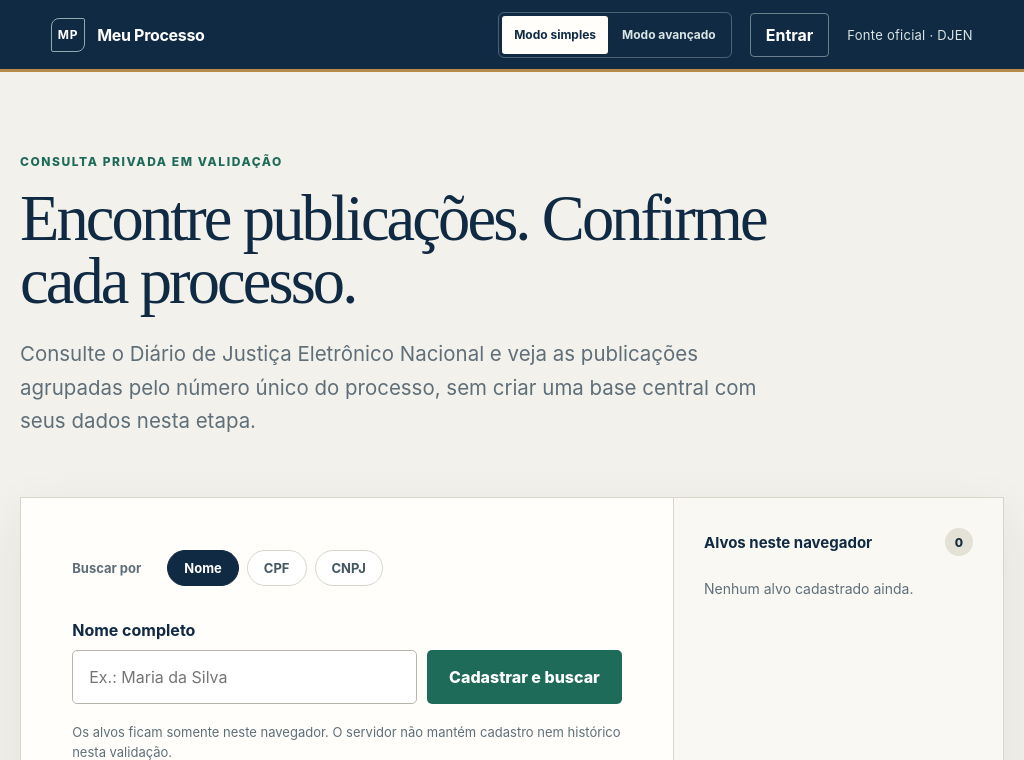
it: App › registers a name locally and renders grouped official results
Click the button "Entrar" at [790, 34], box [750, 12, 829, 56]
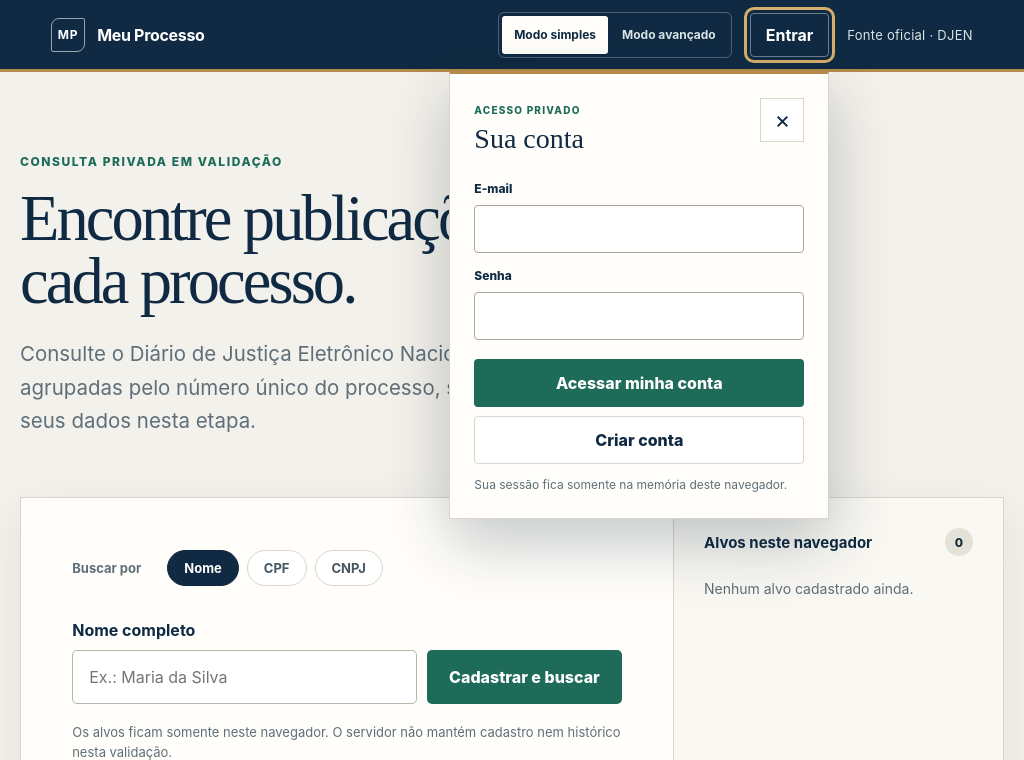
Type "pessoa@example.test" into the field labelled "E-mail" at [639, 228], box [474, 204, 804, 252]
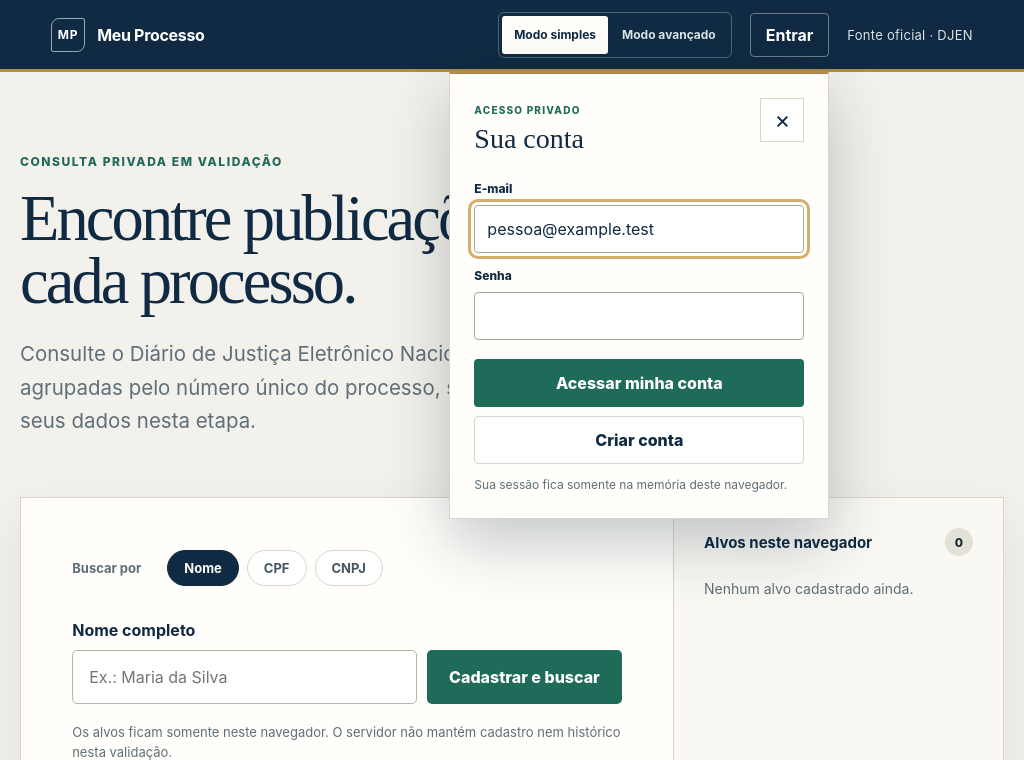
Type "uma-senha-segura" into the password field labelled "Senha" at [639, 316], box [474, 292, 804, 340]
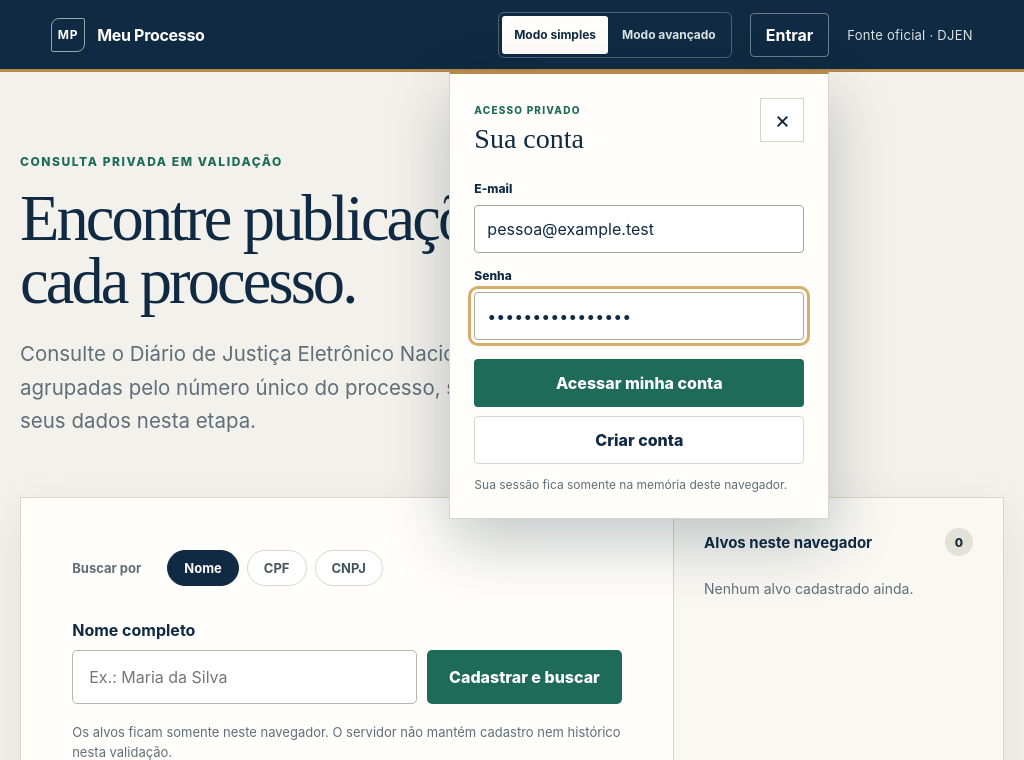
Click the button "Acessar minha conta" at [639, 382], box [474, 358, 804, 406]
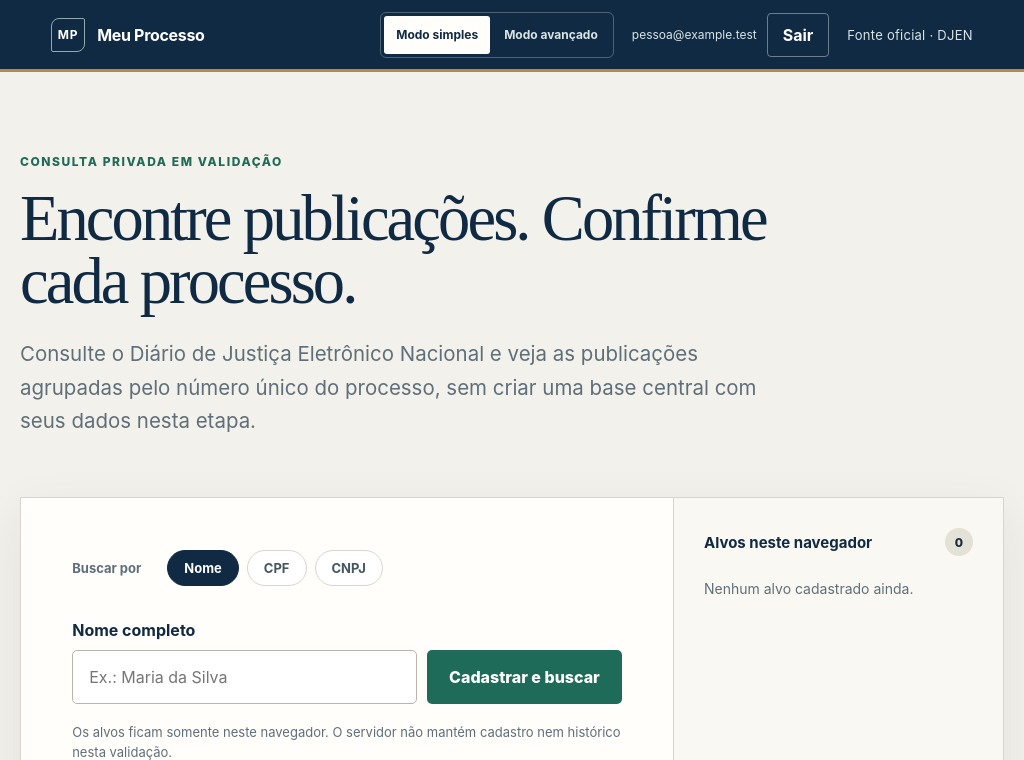
Expected: the text "pessoa@example.test" is shown, [632, 27, 757, 42]
Type "Pessoa Exemplo" into the field labelled "Nome completo" at [245, 676], box [72, 650, 417, 704]
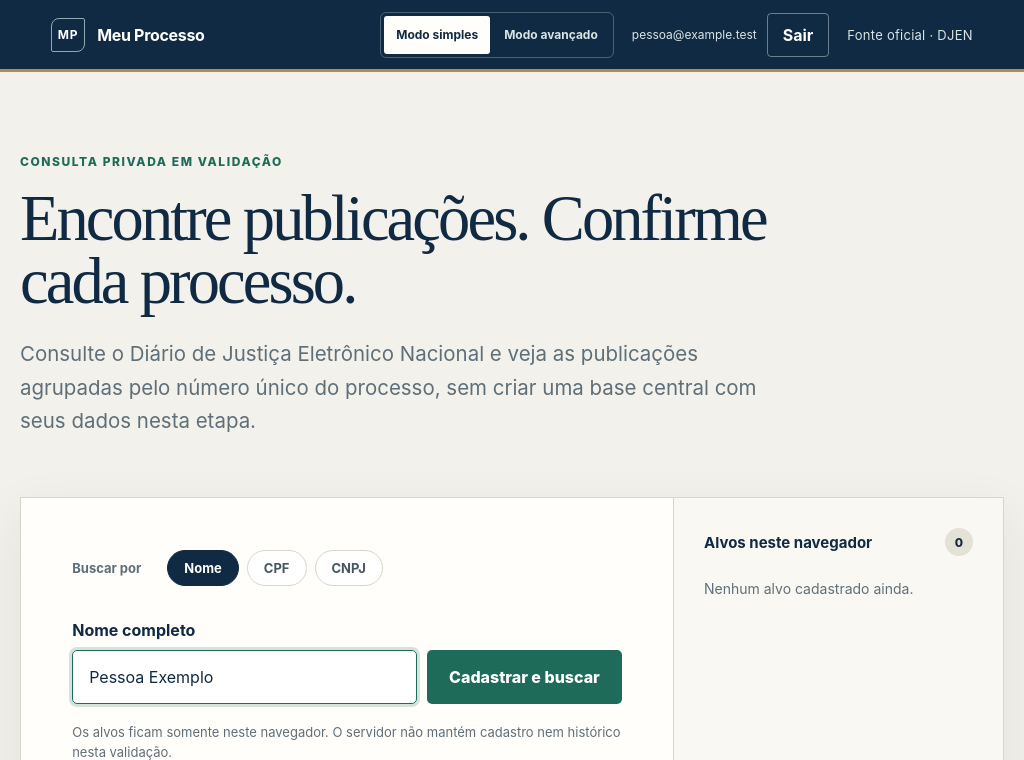
Click the button "Cadastrar e buscar" at [524, 676], box [427, 650, 622, 704]
(page scrolled)
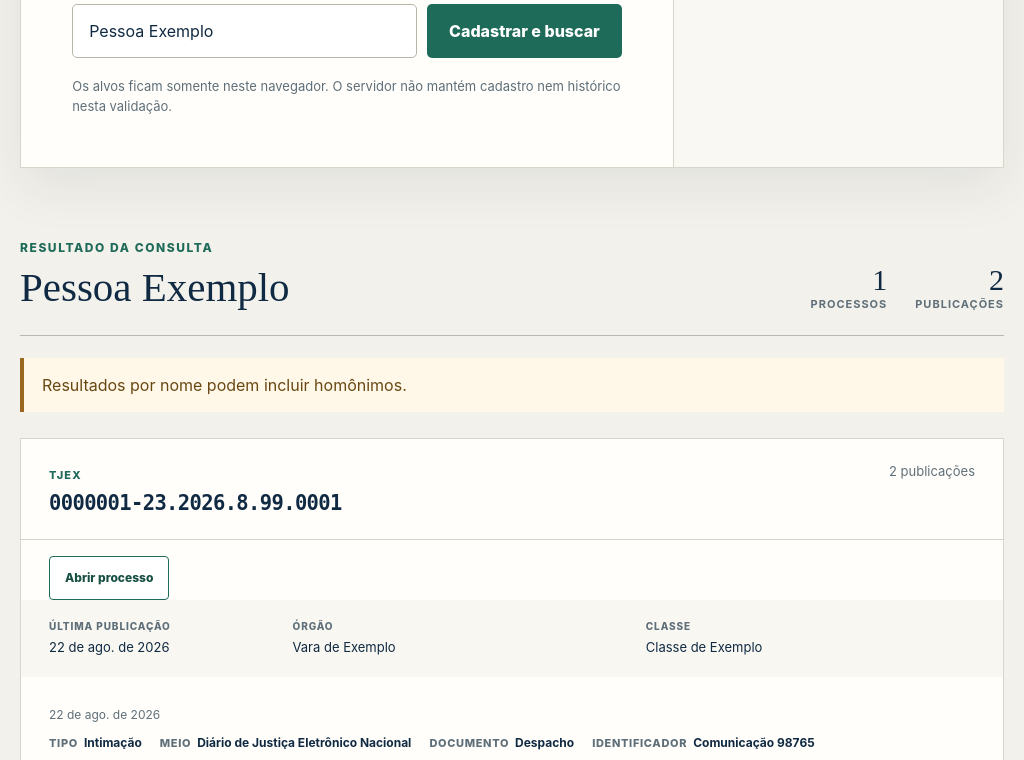
Expected: the heading "0000001-23.2026.8.99.0001" is shown, [49, 491, 342, 515]
Expected: the text "Intimação" is shown, [84, 735, 142, 750]
Expected: the text "Diário de Justiça Eletrônico Nacional" is shown, [197, 735, 411, 750]
